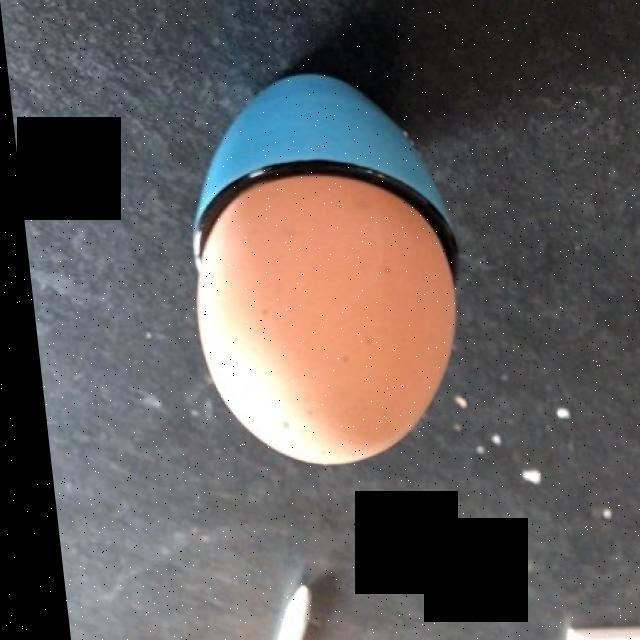egg: (195, 175, 448, 462)
